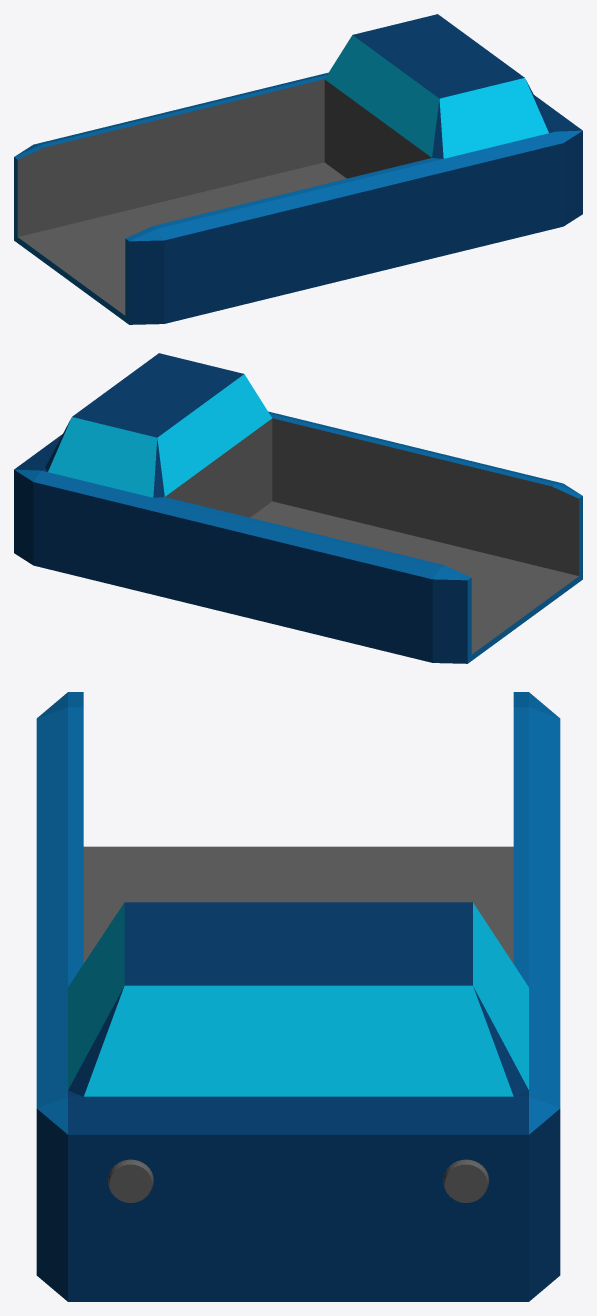
File: Car2.glb
3 renders of one model, top to bottom at view 1: azimuth 30°, elevation 25°; view 2: azimuth 150°, elevation 25°; view 3: azimuth 270°, elevation 25°, orthographic. The views are drawn at different scales.
Visible parts, largest first — view 1: Cube; view 2: Cube; view 3: Cube, RightLightCase, LeftLightCase.
Boxes of the visible parts, left/top/right/bottom form: Cube: left=14, top=14, right=582, bottom=324; Cube: left=14, top=353, right=582, bottom=663; Cube: left=36, top=692, right=560, bottom=1301; RightLightCase: left=443, top=1159, right=488, bottom=1202; LeftLightCase: left=108, top=1159, right=153, bottom=1202.
Bounding box in the file's own units: 10.08 × 3 × 5.
1 material, 1 textured.
